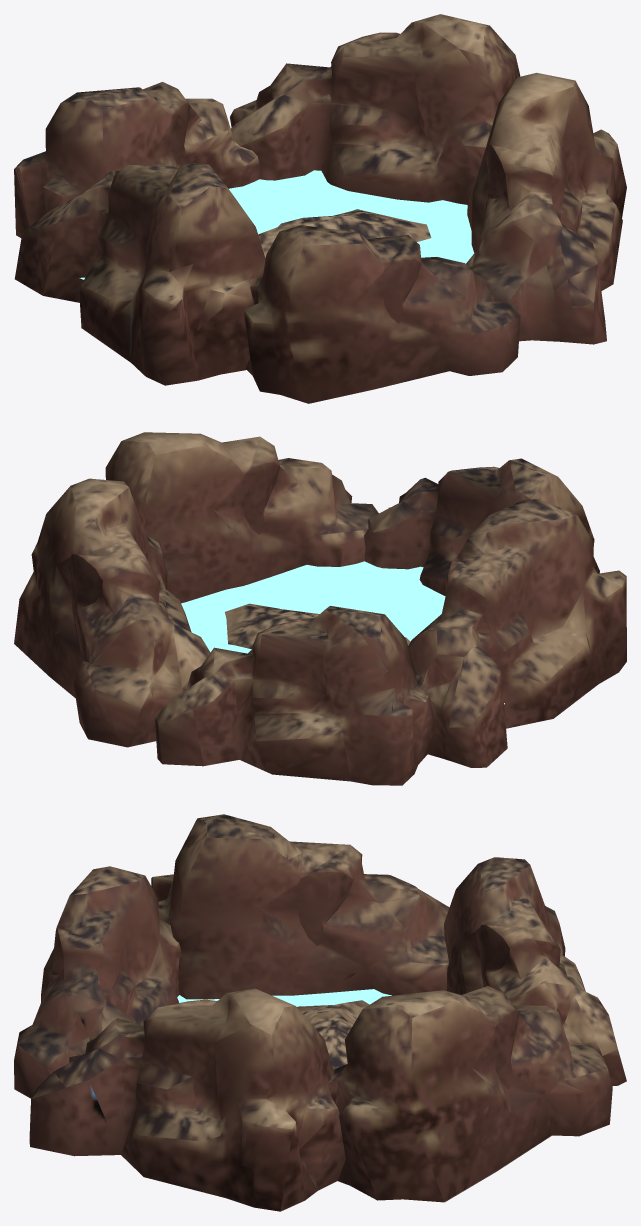
The model's file is Deposit-Hydrogen.fbx.
3 renders of one model, top to bottom at view 1: azimuth 30°, elevation 25°; view 2: azimuth 150°, elevation 25°; view 3: azimuth 270°, elevation 25°, orthographic. The views are drawn at different scales.
Parts seen in each view (by area): view 1: Deposit-Hydrogen; view 2: Deposit-Hydrogen; view 3: Deposit-Hydrogen.
Part boxes in pixels (bbox=[...]): Deposit-Hydrogen: bbox=[14, 14, 626, 403]; Deposit-Hydrogen: bbox=[14, 432, 626, 785]; Deposit-Hydrogen: bbox=[14, 814, 626, 1211].
Bounding box in the file's own units: 3.02 × 0.9277 × 3.03.
